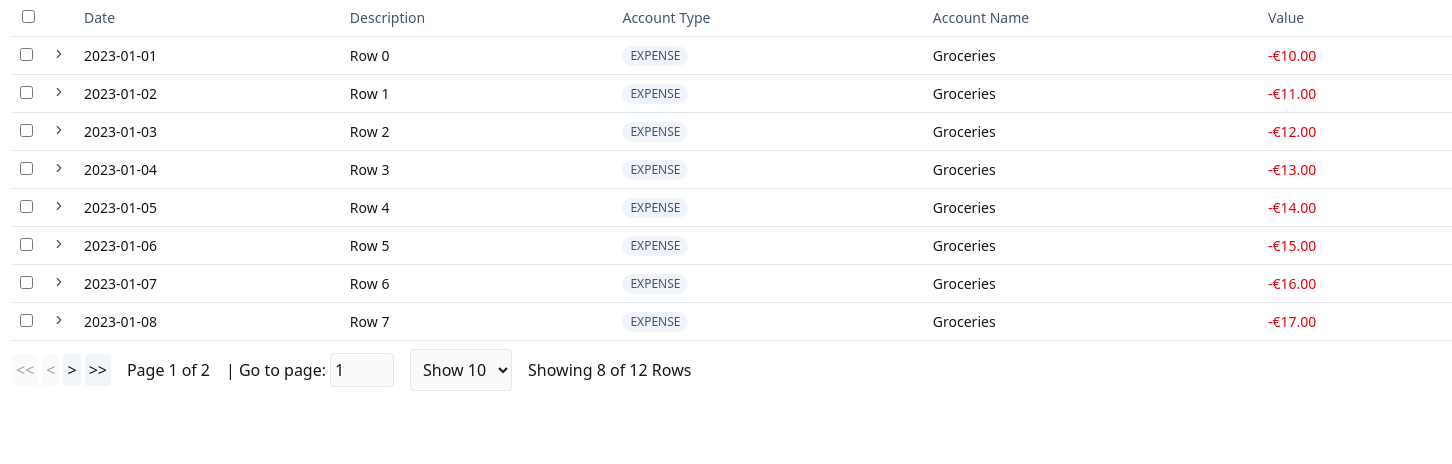
Test case: TransactTable › expands a row to reveal its detail fields on click
The image size is (1452, 464).
Expected: the text "split-0" is not shown
Click the button named "show details for row 0".
click(59, 54)  # box x1=48 y1=42 x2=70 y2=64
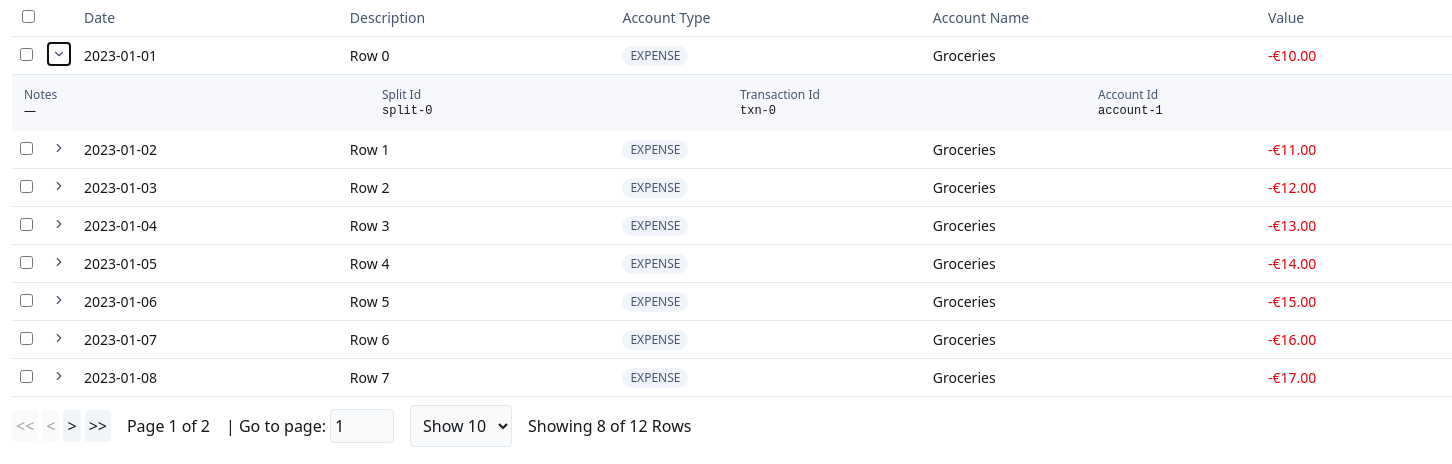
Now the text "split-0" is shown, box x1=382 y1=104 x2=432 y2=118
Click the button named "hide details for row 0".
click(59, 54)  # box x1=48 y1=42 x2=70 y2=64
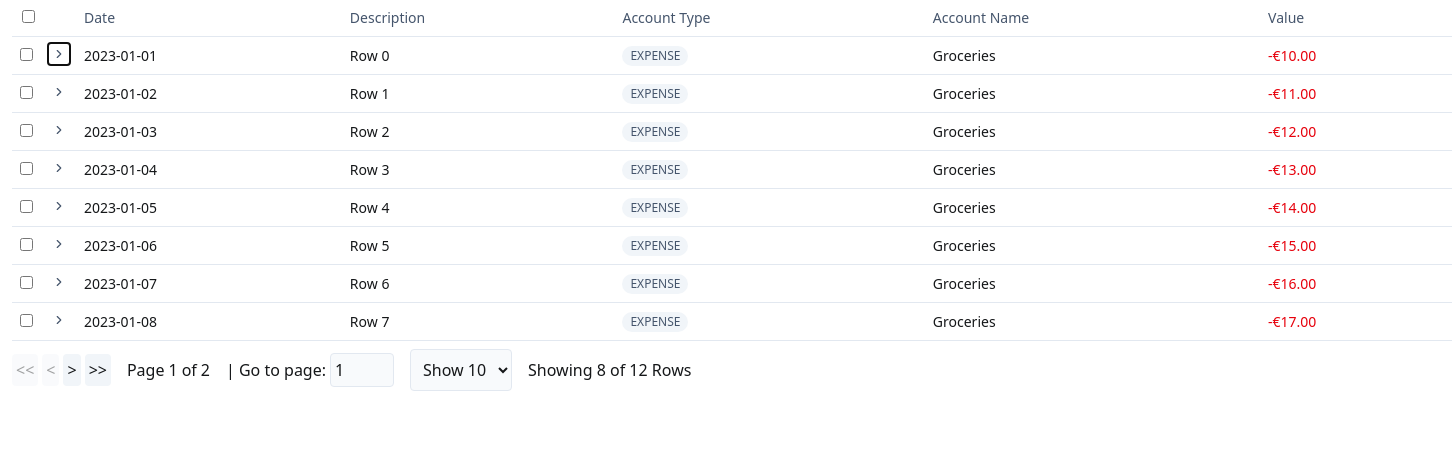
Now the text "split-0" is gone
